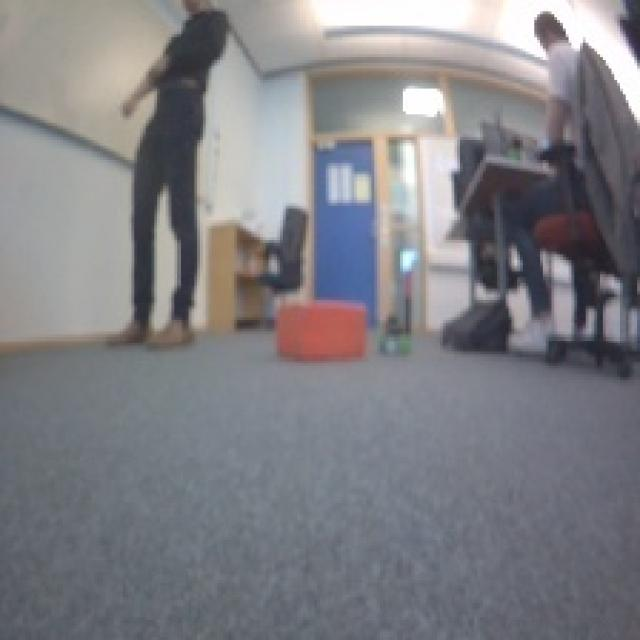robot: (377, 312, 415, 358)
target: (272, 297, 368, 360)
